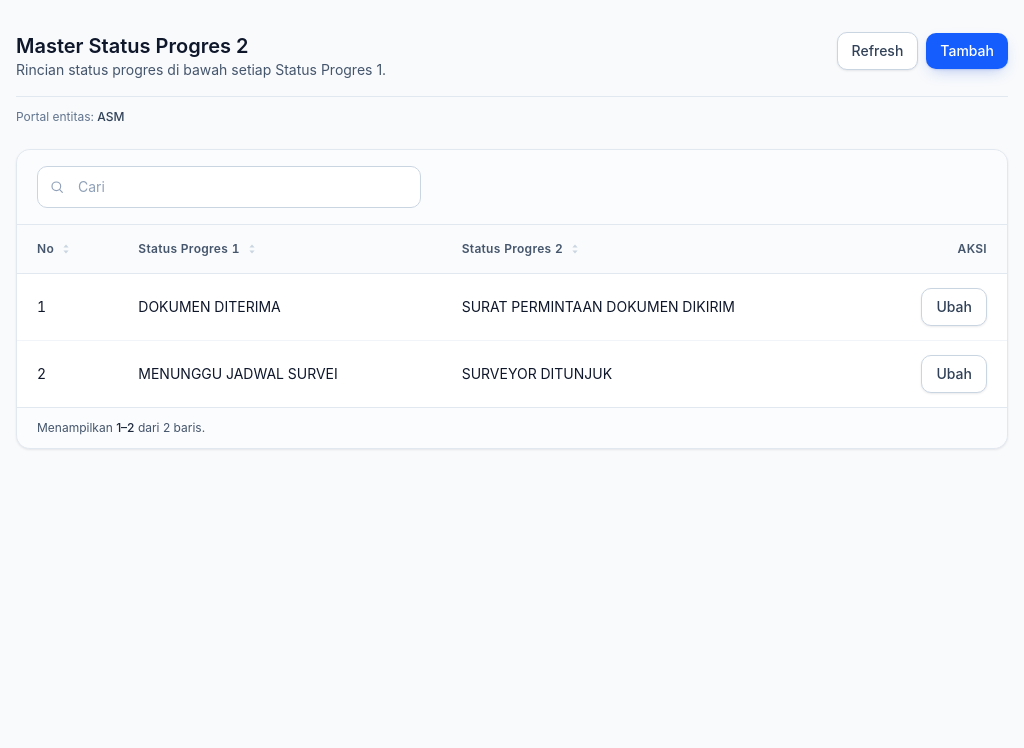
Test: penyuntingan status progres 2 › tidak menembak server saat nama dikosongkan
Expected: the table is shown, [17, 225, 1007, 407]
Click the button with aria-label "Ubah SURVEYOR DITUNJUK" at (954, 374), box [922, 355, 987, 393]
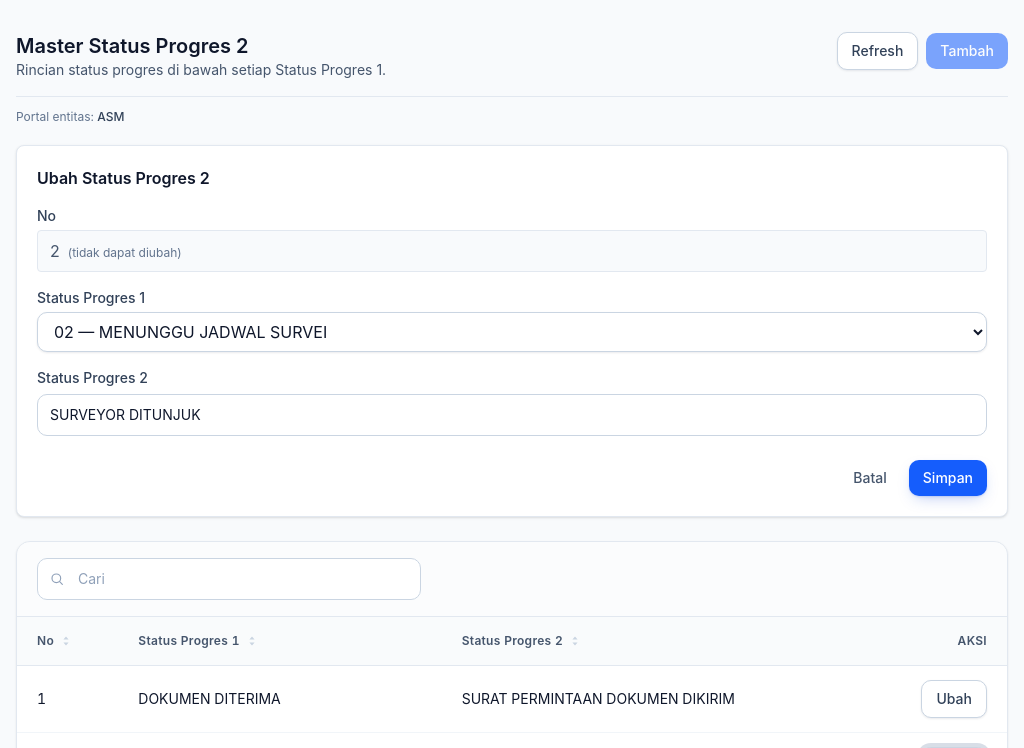
Clear the field labelled "Status Progres 2" at (512, 415), box [37, 394, 987, 436]
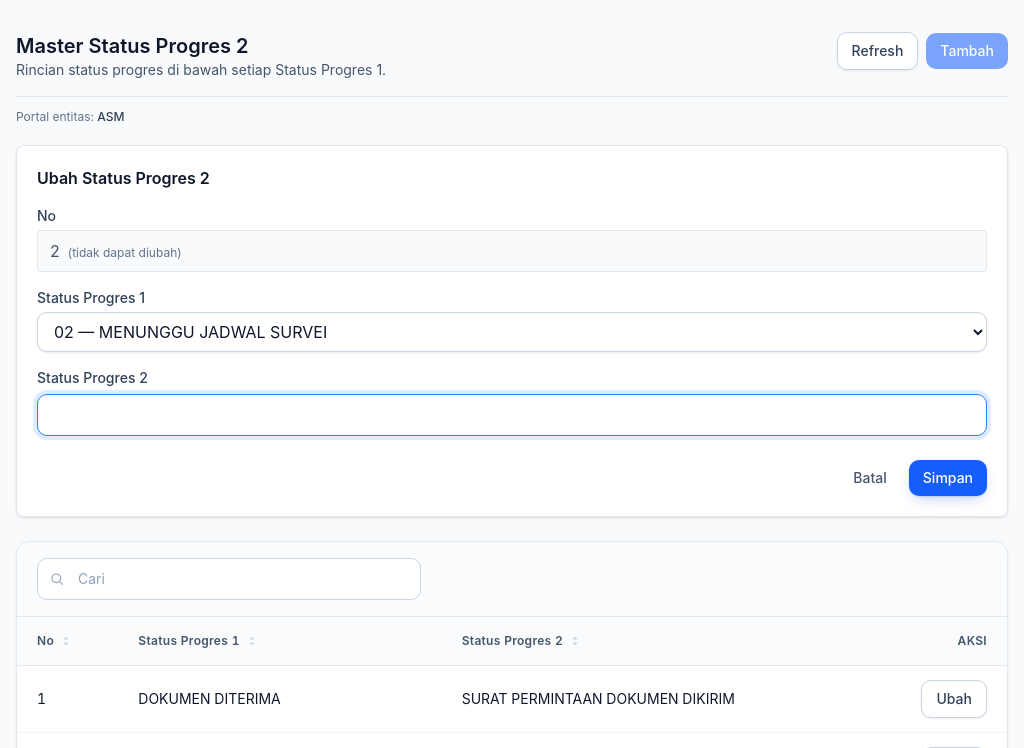
Click the button "Simpan" at (948, 478), box [909, 460, 987, 496]
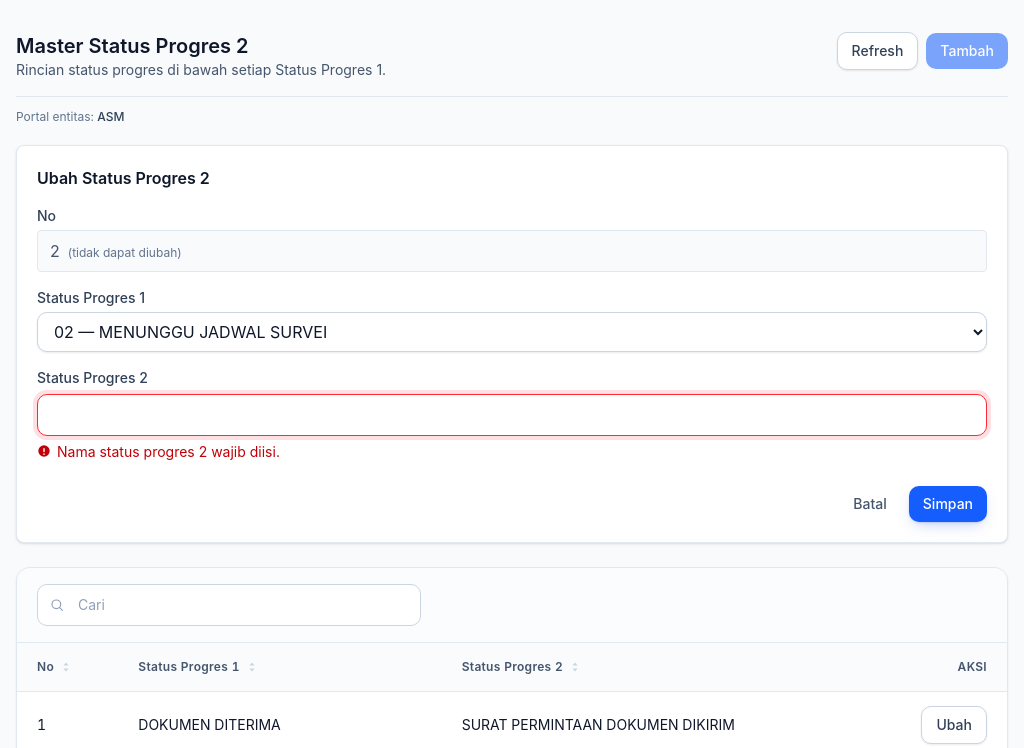
Expected: the text "Nama status progres 2 wajib diisi." is shown, [57, 442, 280, 462]
